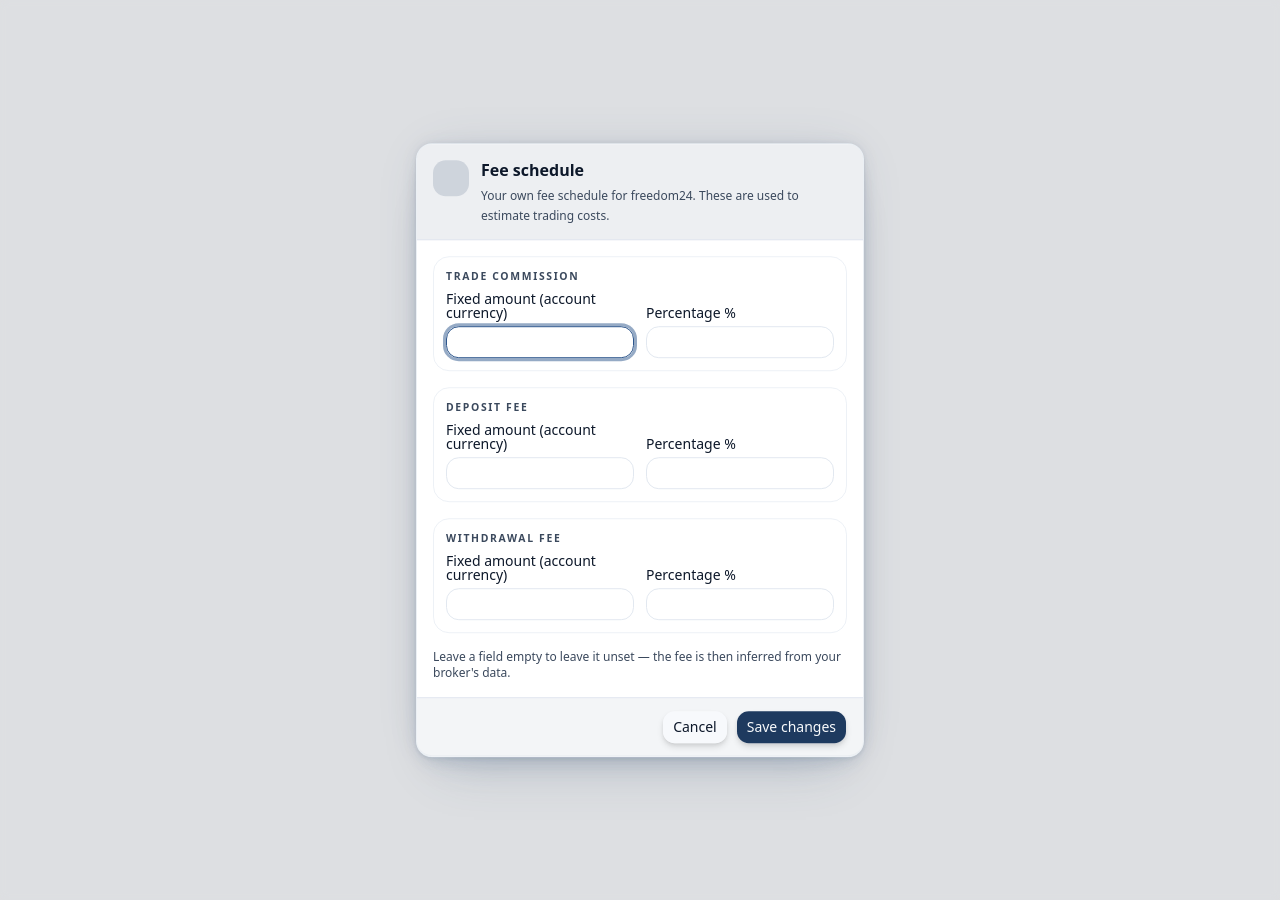
Test case: ProviderFeeSettingsDialog › rejects a percentage above 100 and makes no request
Type "150" into the field labelled "Percentage %" below "Trade commission".
click(740, 342); type("150")  # box [646,326,834,358]
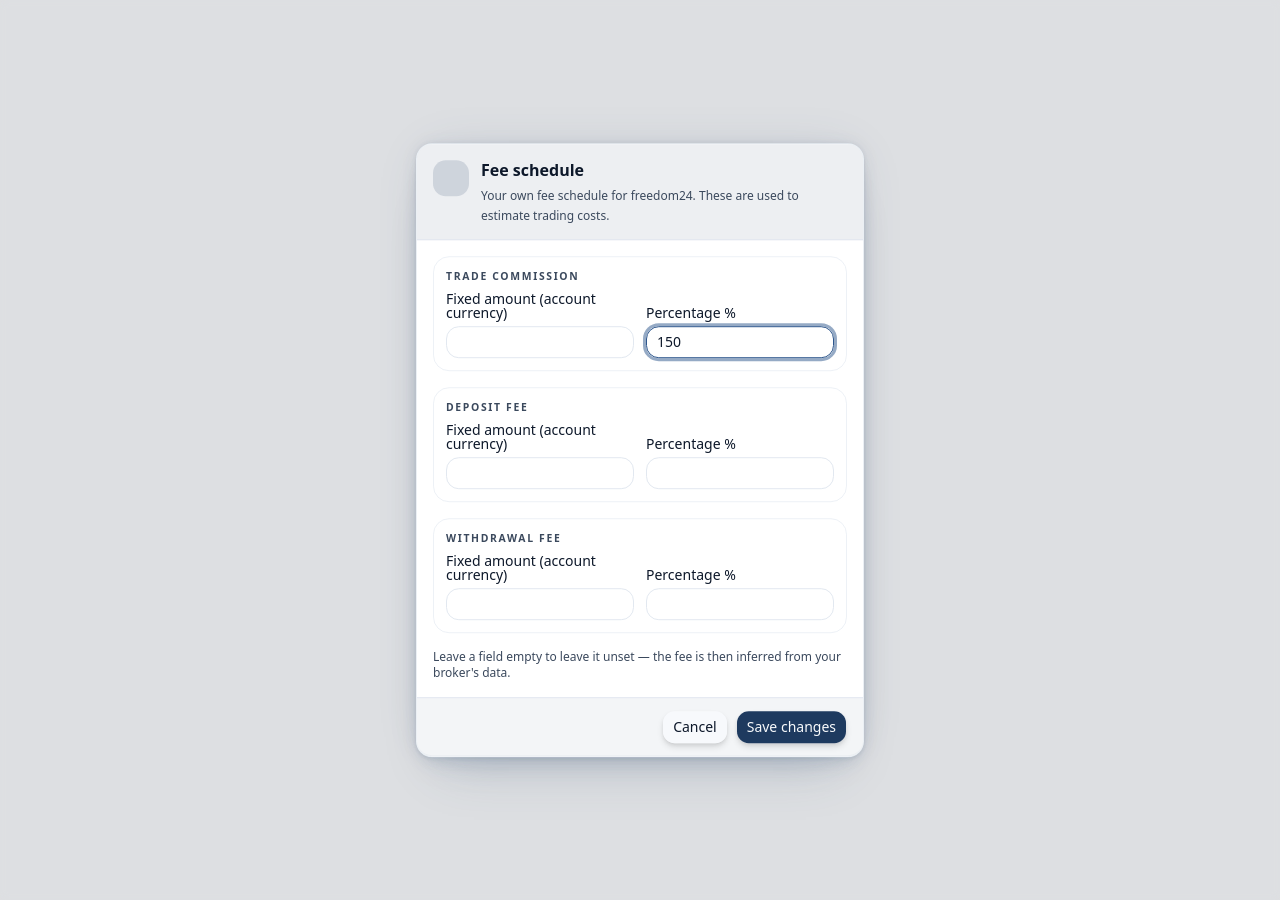
Click the button "Save changes".
click(791, 727)  # box [736,710,847,744]
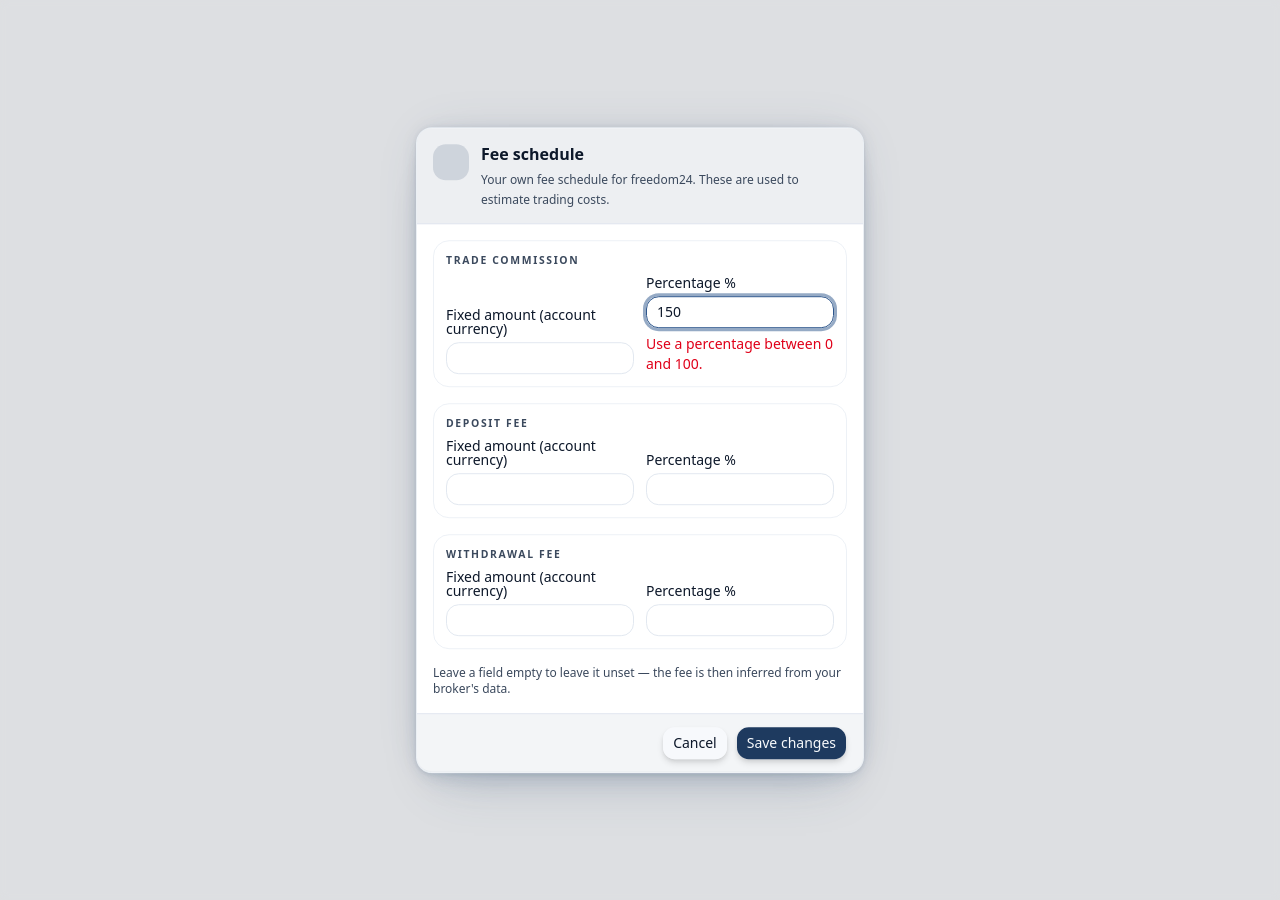
Check: the text "Use a percentage between 0 and 100." is shown, box [646,334,834,374]
